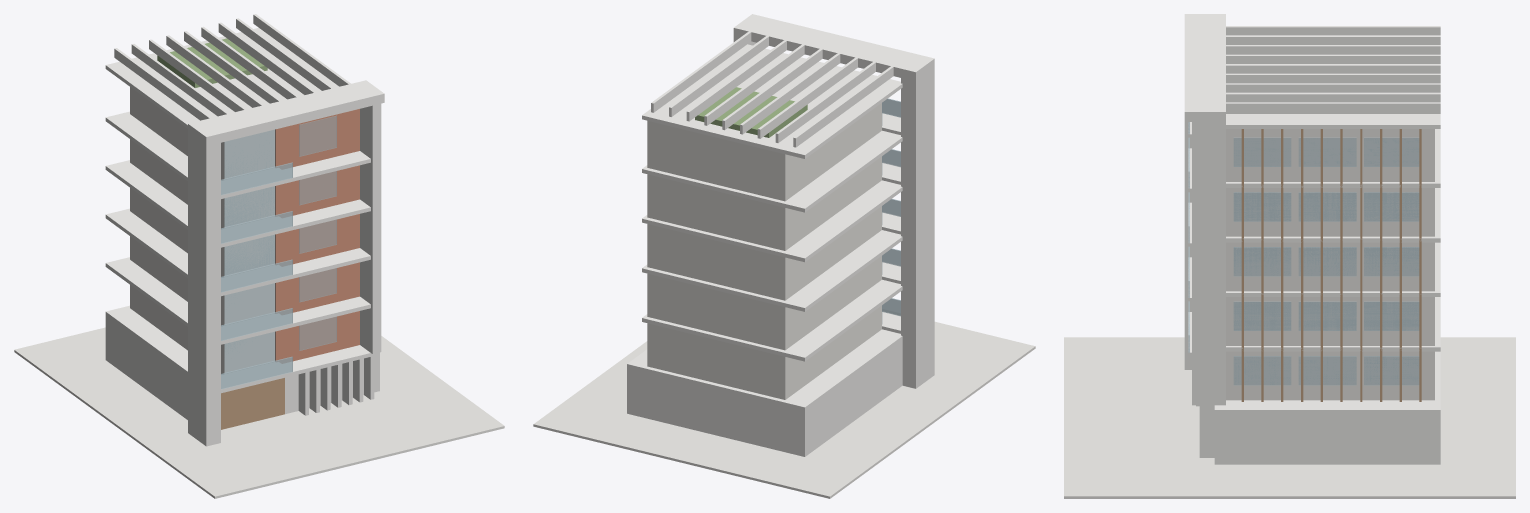
File: samriddhi.glb
3 renders of one model, left to right at view 1: azimuth 30°, elevation 25°; view 2: azimuth 150°, elevation 25°; view 3: azimuth 270°, elevation 25°, orthographic. The views are drawn at different scales.
Visible parts, largest first — view 1: roof-white, site-site, floor-0-white, floor-5-glass, floor-3-white, floor-4-white, floor-2-white, floor-5-white, floor-1-white, floor-5-offwhite, floor-1-glass, floor-2-glass (+13 smaller); view 2: roof-white, site-site, floor-0-white, floor-5-offwhite, floor-1-offwhite, floor-2-offwhite, floor-4-offwhite, floor-3-offwhite, floor-4-white, floor-2-white, floor-3-white, floor-5-white (+2 smaller); view 3: site-site, roof-white, floor-0-white, floor-5-offwhite, floor-1-offwhite, floor-3-offwhite, floor-2-offwhite, floor-4-offwhite, floor-1-glass, floor-3-glass, floor-2-glass, floor-4-glass (+10 smaller).
Boxes of the visible parts, <box> form: roof-white: <box>105,14,384,446</box>; site-site: <box>14,327,504,498</box>; floor-0-white: <box>105,305,379,419</box>; floor-5-glass: <box>221,115,336,195</box>; floor-3-white: <box>105,208,370,296</box>; floor-4-white: <box>105,160,370,247</box>; floor-2-white: <box>105,257,370,344</box>; floor-5-white: <box>105,111,370,198</box>; floor-1-white: <box>105,306,373,393</box>; floor-5-offwhite: <box>130,87,274,180</box>; floor-1-glass: <box>221,316,336,389</box>; floor-2-glass: <box>221,268,336,340</box>; roof-white: <box>642,14,934,388</box>; site-site: <box>533,309,1035,498</box>; floor-0-white: <box>627,336,902,456</box>; floor-5-offwhite: <box>647,103,881,201</box>; floor-1-offwhite: <box>647,305,881,399</box>; floor-2-offwhite: <box>647,256,881,350</box>; floor-4-offwhite: <box>647,156,881,250</box>; floor-3-offwhite: <box>647,206,881,300</box>; floor-4-white: <box>642,162,902,262</box>; floor-2-white: <box>642,262,902,361</box>; floor-3-white: <box>642,212,902,311</box>; floor-5-white: <box>642,113,902,212</box>; site-site: <box>1064,337,1515,498</box>; roof-white: <box>1184,14,1440,405</box>; floor-0-white: <box>1199,351,1440,464</box>; floor-5-offwhite: <box>1226,129,1434,181</box>; floor-1-offwhite: <box>1226,351,1434,400</box>; floor-3-offwhite: <box>1226,242,1434,291</box>; floor-2-offwhite: <box>1226,297,1434,345</box>; floor-4-offwhite: <box>1226,188,1434,236</box>; floor-1-glass: <box>1188,301,1419,385</box>; floor-3-glass: <box>1188,192,1419,276</box>; floor-2-glass: <box>1188,246,1419,330</box>; floor-4-glass: <box>1188,137,1419,221</box>.
Bounding box in the file's own units: 20 × 20.55 × 24.
